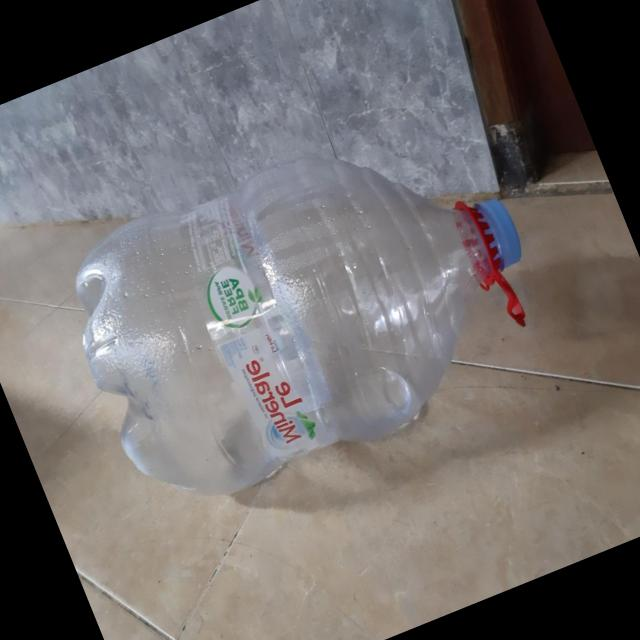Galon: (41, 84, 572, 531)
